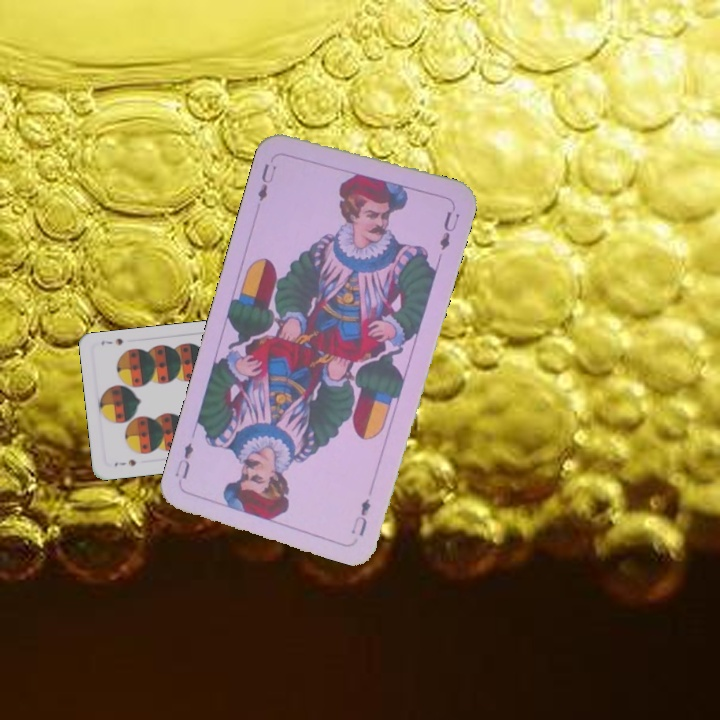EU: (253, 159, 279, 204), (347, 495, 373, 539)
S7: (110, 455, 139, 469)
